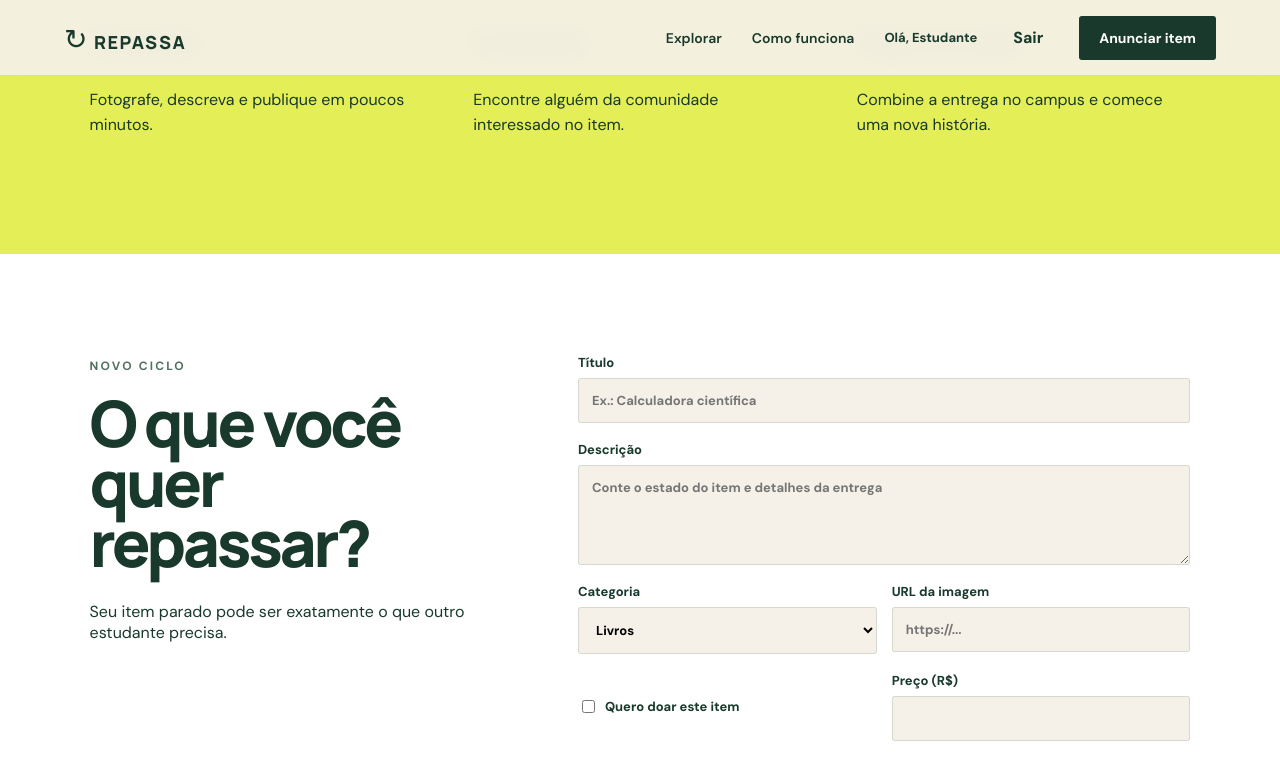
Test case: Repassa Campus › publica uma venda, limpa o formulário e atualiza as estatísticas
(page scrolled)
Type "Calculadora científica" into the field labelled "Título" at (884, 400), box [578,378,1190,423]
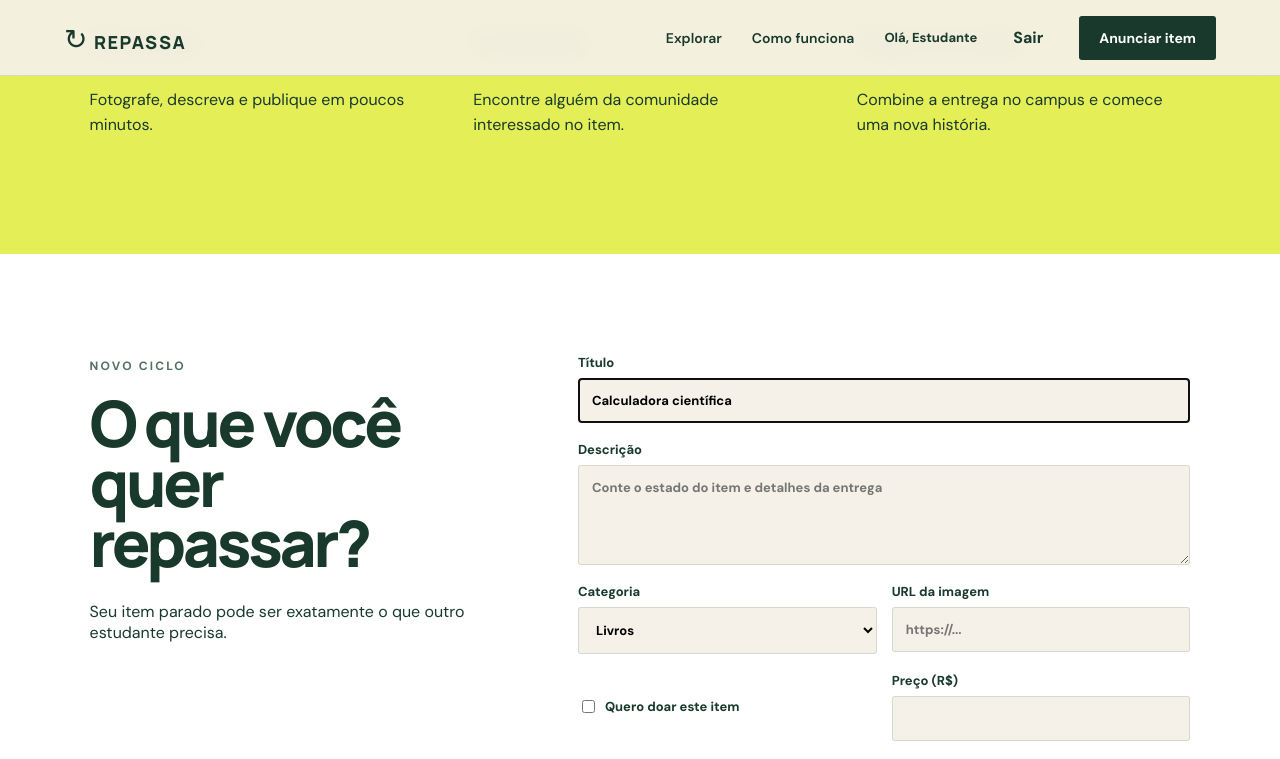
Type "Calculadora em excelente estado de conservação." into the text box labelled "Descrição" at (884, 515), box [578,465,1190,565]
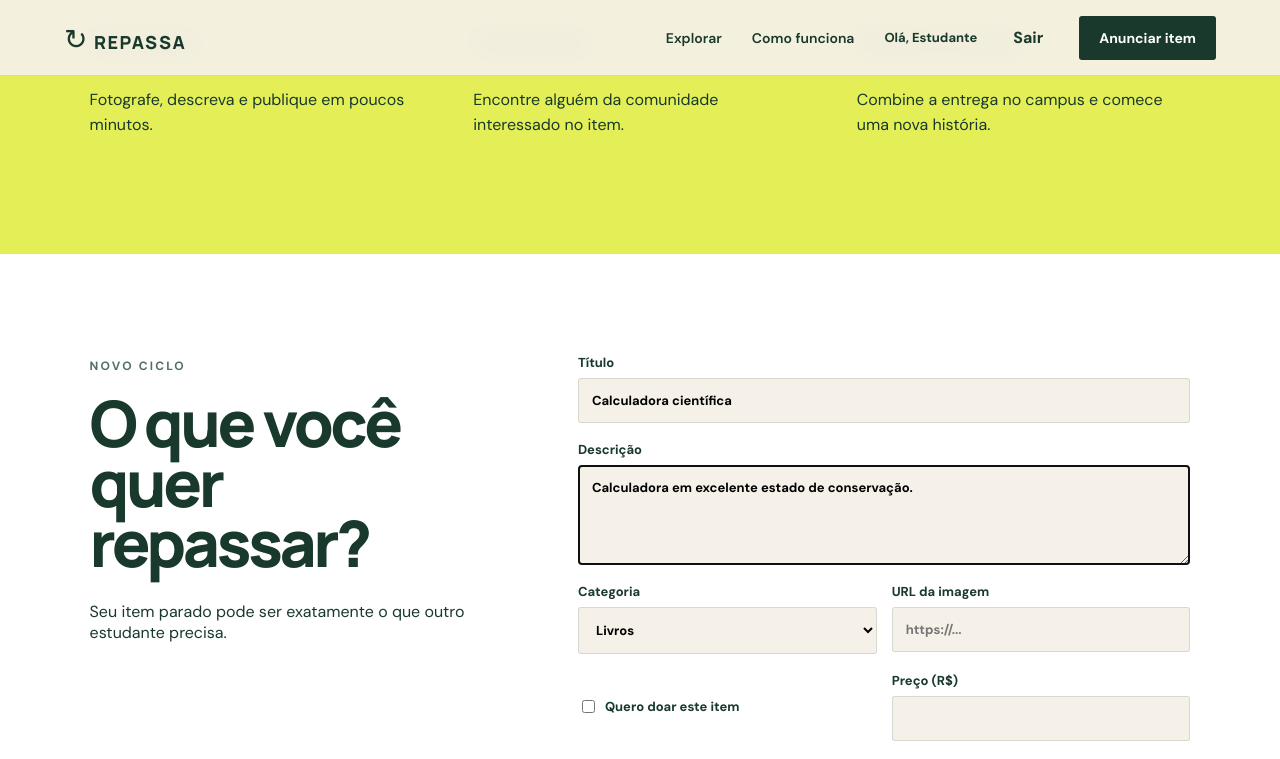
Select "Engenharia" in the dropdown labelled "Categoria" at (727, 630), box [578,607,877,654]
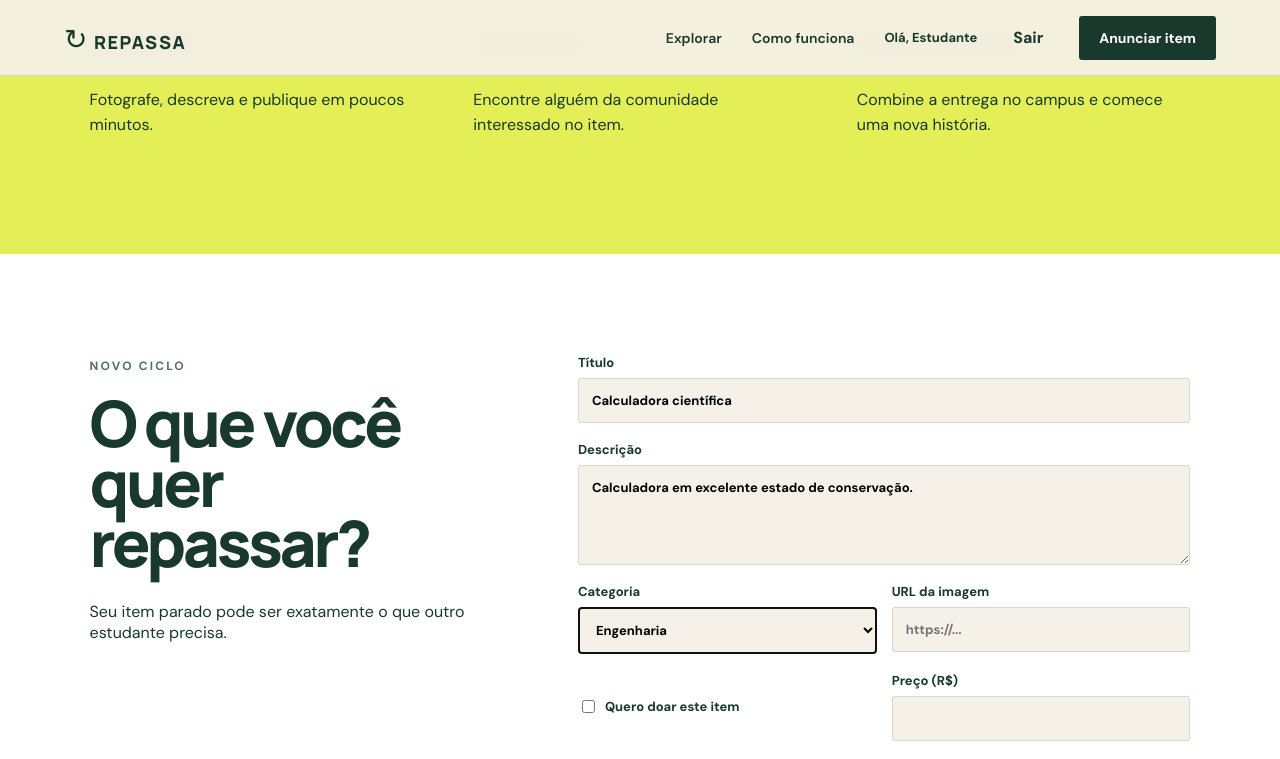
Type "https://example.com/calculadora.jpg" into the field labelled "URL da imagem" at (1041, 629), box [892,607,1190,652]
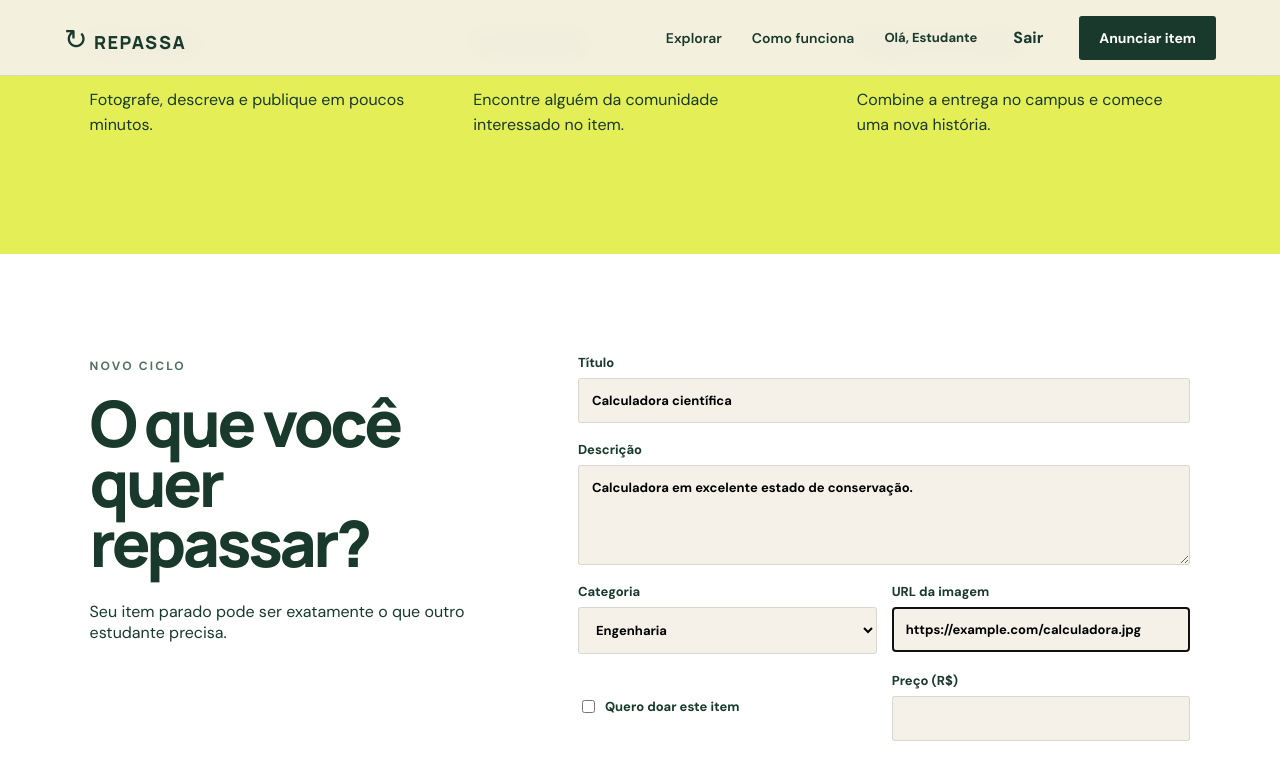
Type "55" into the number field labelled "Preço (R$)" at (1041, 718), box [892,696,1190,741]
(page scrolled)
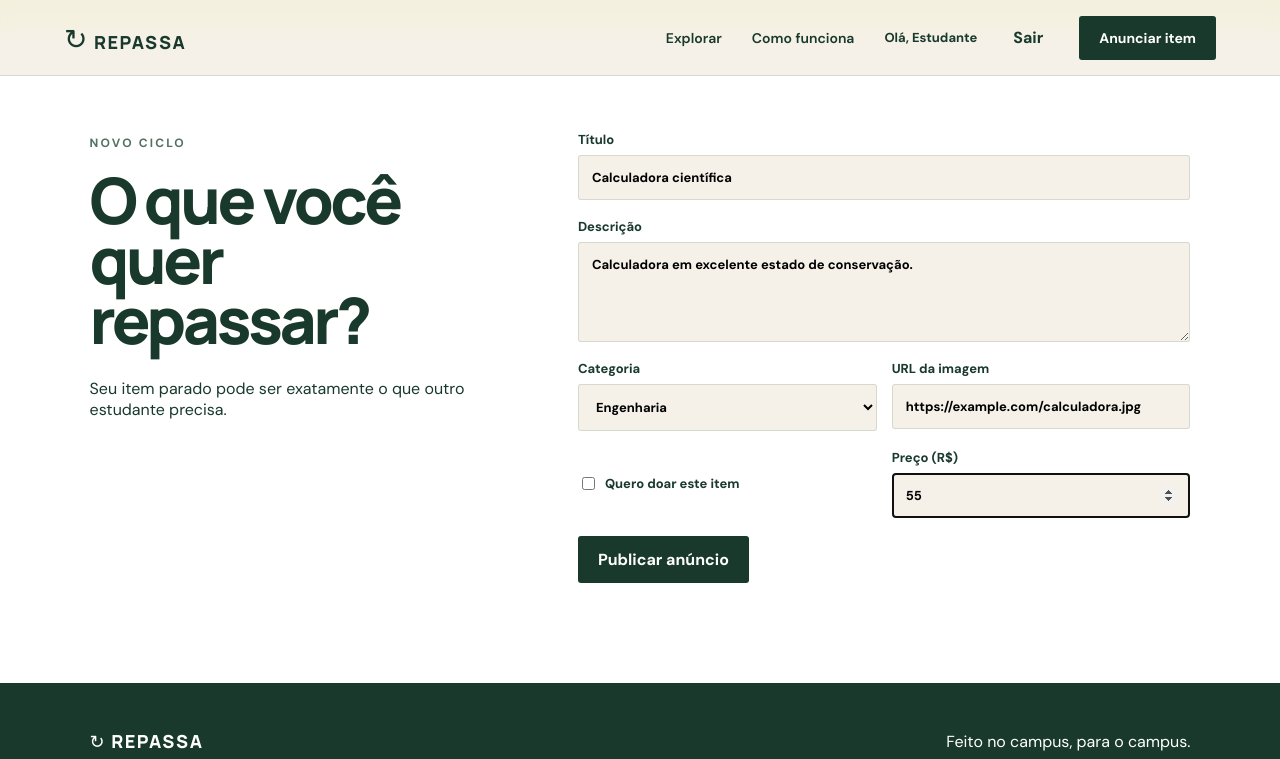
Click the button "Publicar anúncio" at (663, 559), box [578,536,749,583]
(page scrolled)
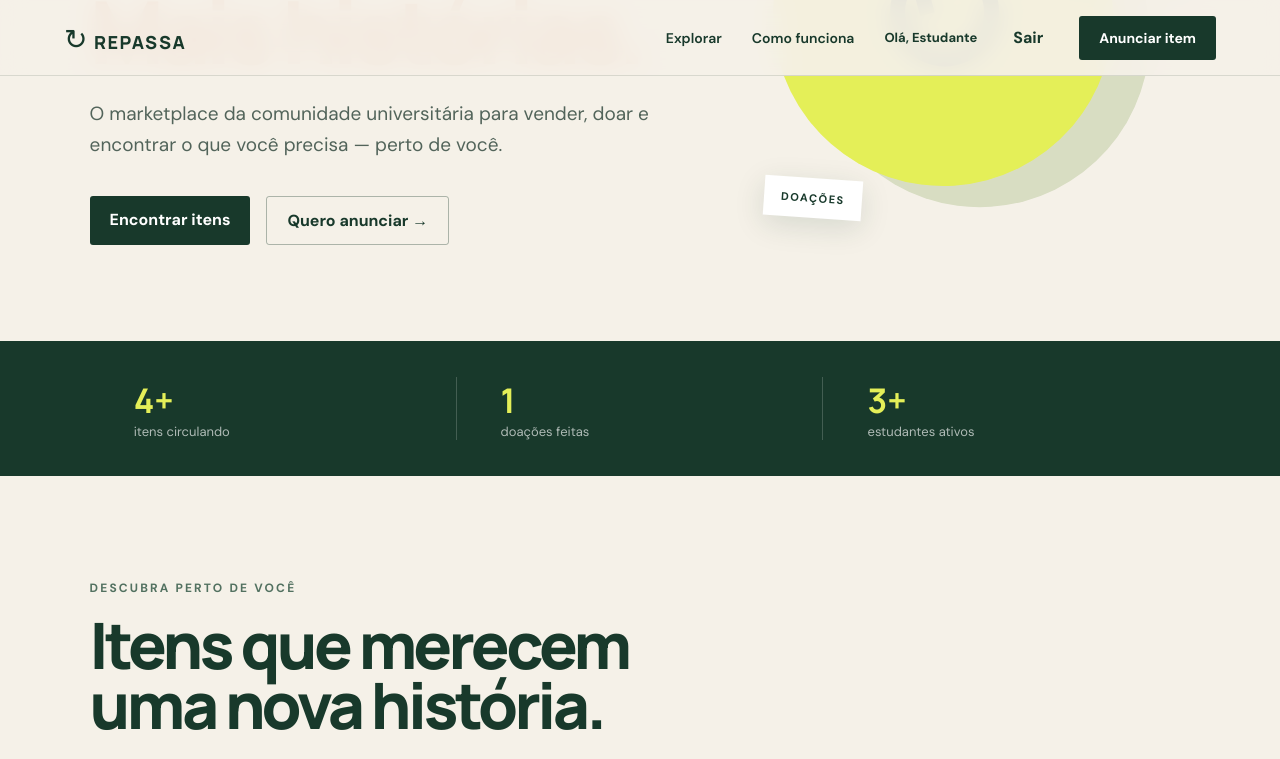
Expected: the text "4+" is shown, [134,377,174,423]
